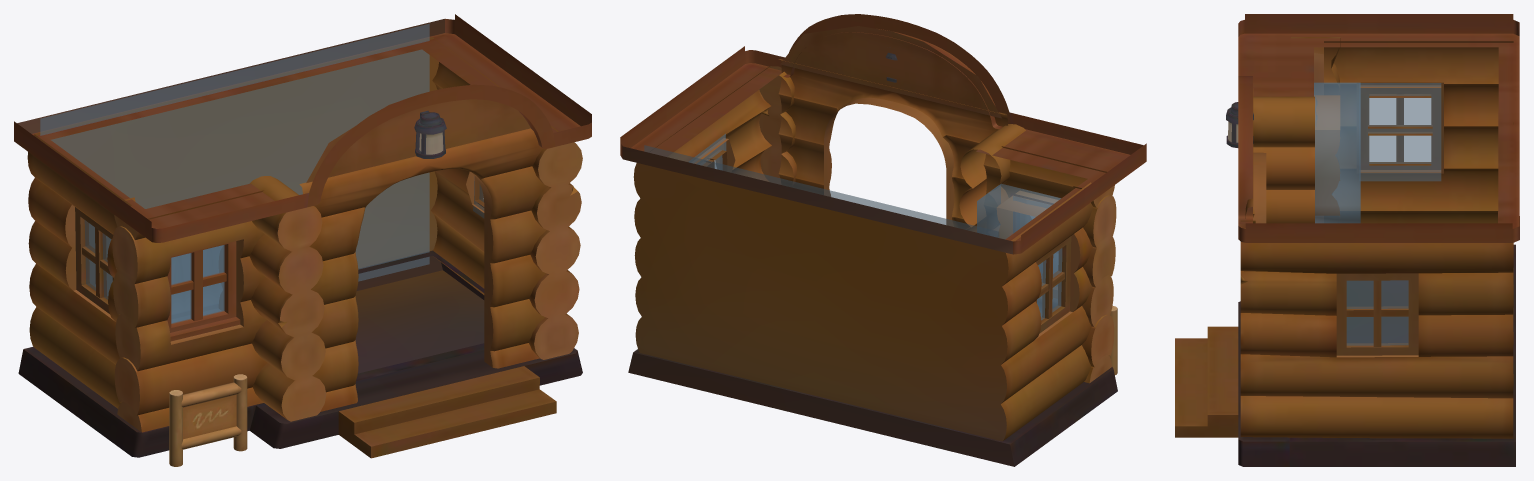
File: wall-nb-log.glb
3 renders of one model, left to right at view 1: azimuth 30°, elevation 25°; view 2: azimuth 150°, elevation 25°; view 3: azimuth 270°, elevation 25°, orthographic. The views are drawn at different scales.
Size of the model in its own units: 39.24 by 27.32 by 27.3.
7 materials, 3 textured.
